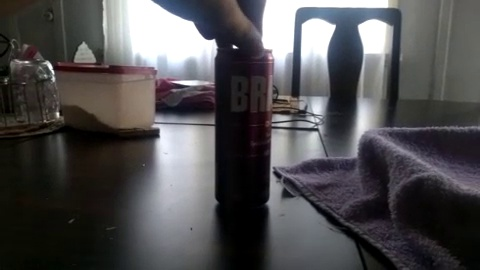duplo_malte: (191, 32, 291, 237)
